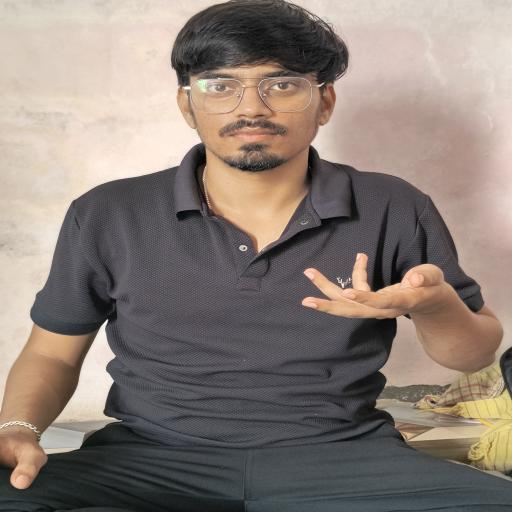Help: (281, 236, 476, 345)
